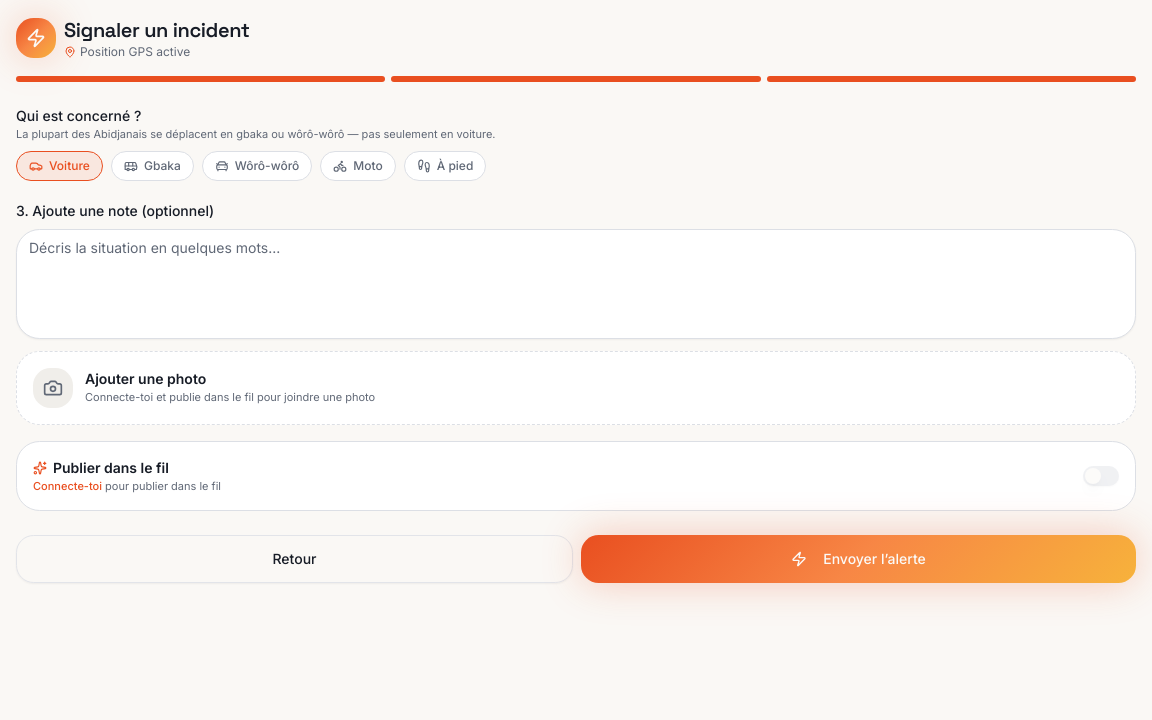
Scenario: Report lets a user tag which transport modes are affected
Earlier steps of the test are not shown.
Click the button "Gbaka" at (152, 166), box [111,150,194,180]
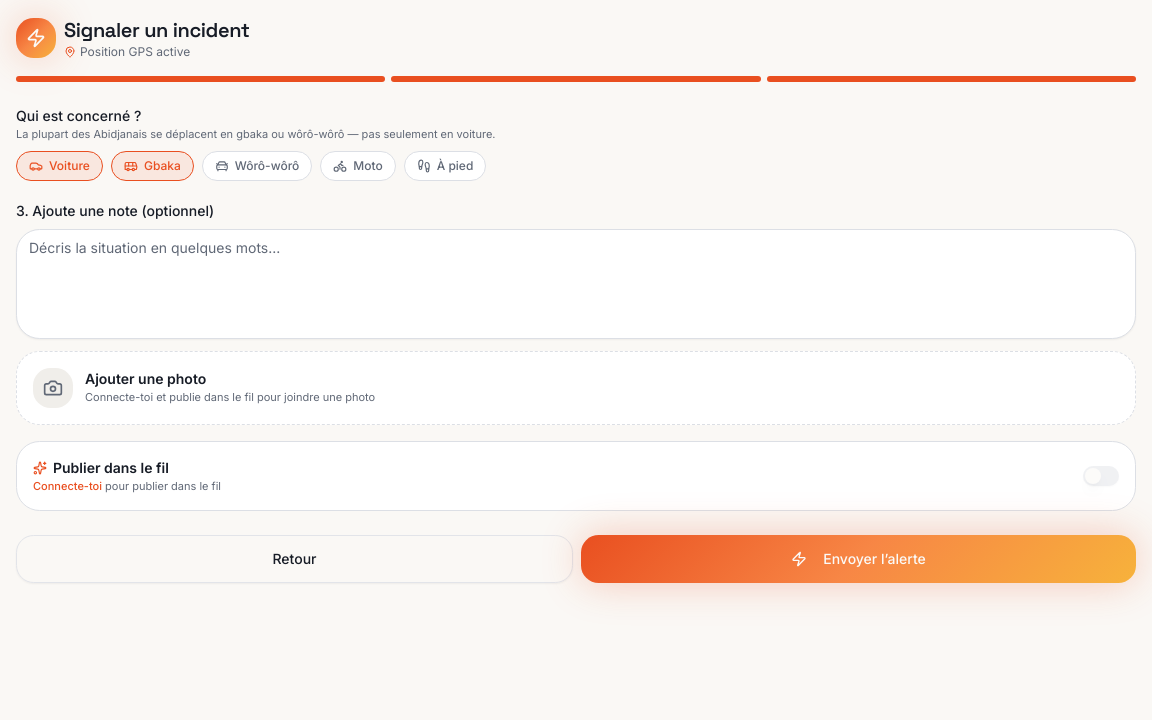
Expected: the button "Gbaka" has class "border-primary", [111,150,194,180]
